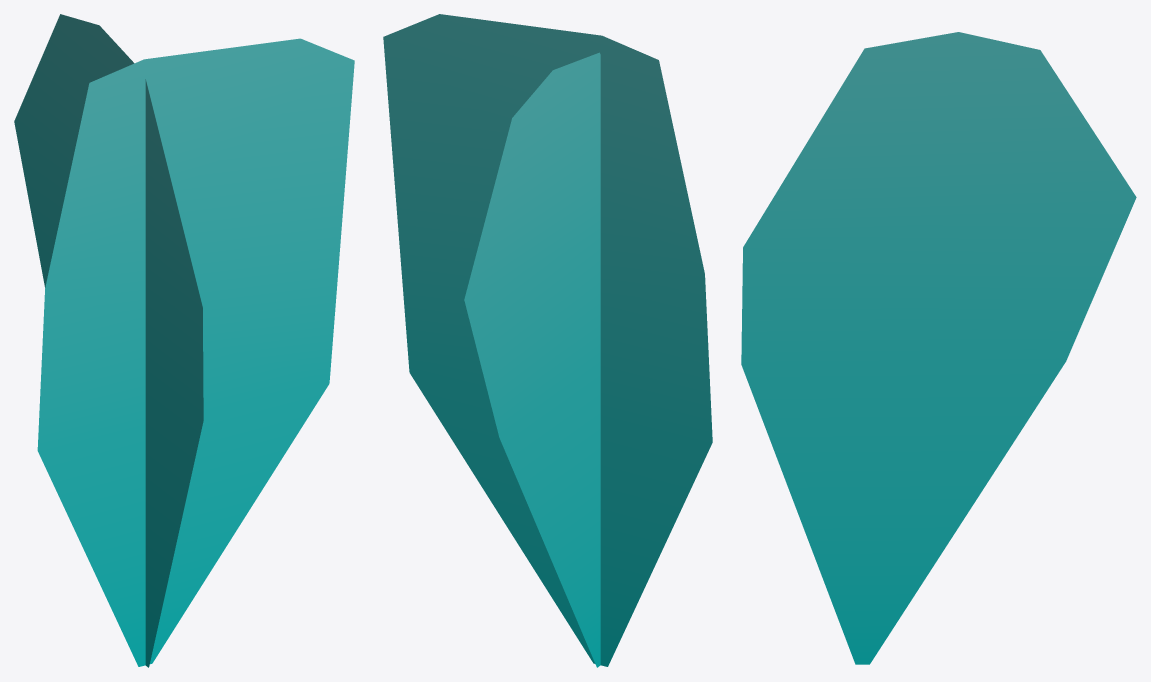
The model's file is DeadBushBillboard.fbx.
3 views of the same model, side by side, from view 1: azimuth 30°, elevation 25°; view 2: azimuth 150°, elevation 25°; view 3: azimuth 270°, elevation 25° (orthographic). The views are drawn at different scales.
Visible parts, largest first — view 1: _uu05_VarH_LOD5; view 2: _uu05_VarH_LOD5; view 3: _uu05_VarH_LOD5.
Part boxes in pixels (x1,y1,x2,y2): _uu05_VarH_LOD5: (14, 14, 354, 667); _uu05_VarH_LOD5: (383, 14, 712, 667); _uu05_VarH_LOD5: (741, 32, 1136, 664).
Size of the model in its own units: 61.44 by 112 by 63.57.
